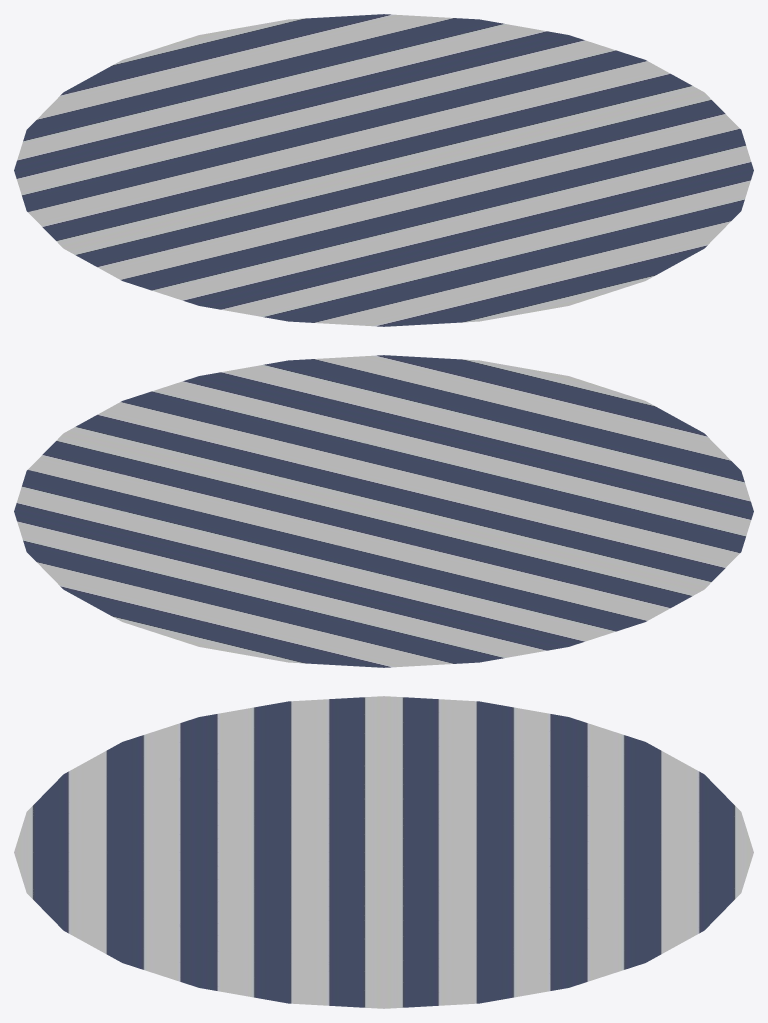
Rendered from carpet.glb.
3 renders of one model, top to bottom at view 1: azimuth 30°, elevation 25°; view 2: azimuth 150°, elevation 25°; view 3: azimuth 270°, elevation 25°, orthographic.
Visible parts, largest first — view 1: SM_zhuobu_zhuobu1_0; view 2: SM_zhuobu_zhuobu1_0; view 3: SM_zhuobu_zhuobu1_0.
Part boxes in pixels (bbox=[...]): SM_zhuobu_zhuobu1_0: bbox=[14, 14, 753, 326]; SM_zhuobu_zhuobu1_0: bbox=[14, 355, 753, 667]; SM_zhuobu_zhuobu1_0: bbox=[14, 696, 753, 1008].
Size of the model in its own units: 786 by 0 by 786.
1 material, 1 textured.
